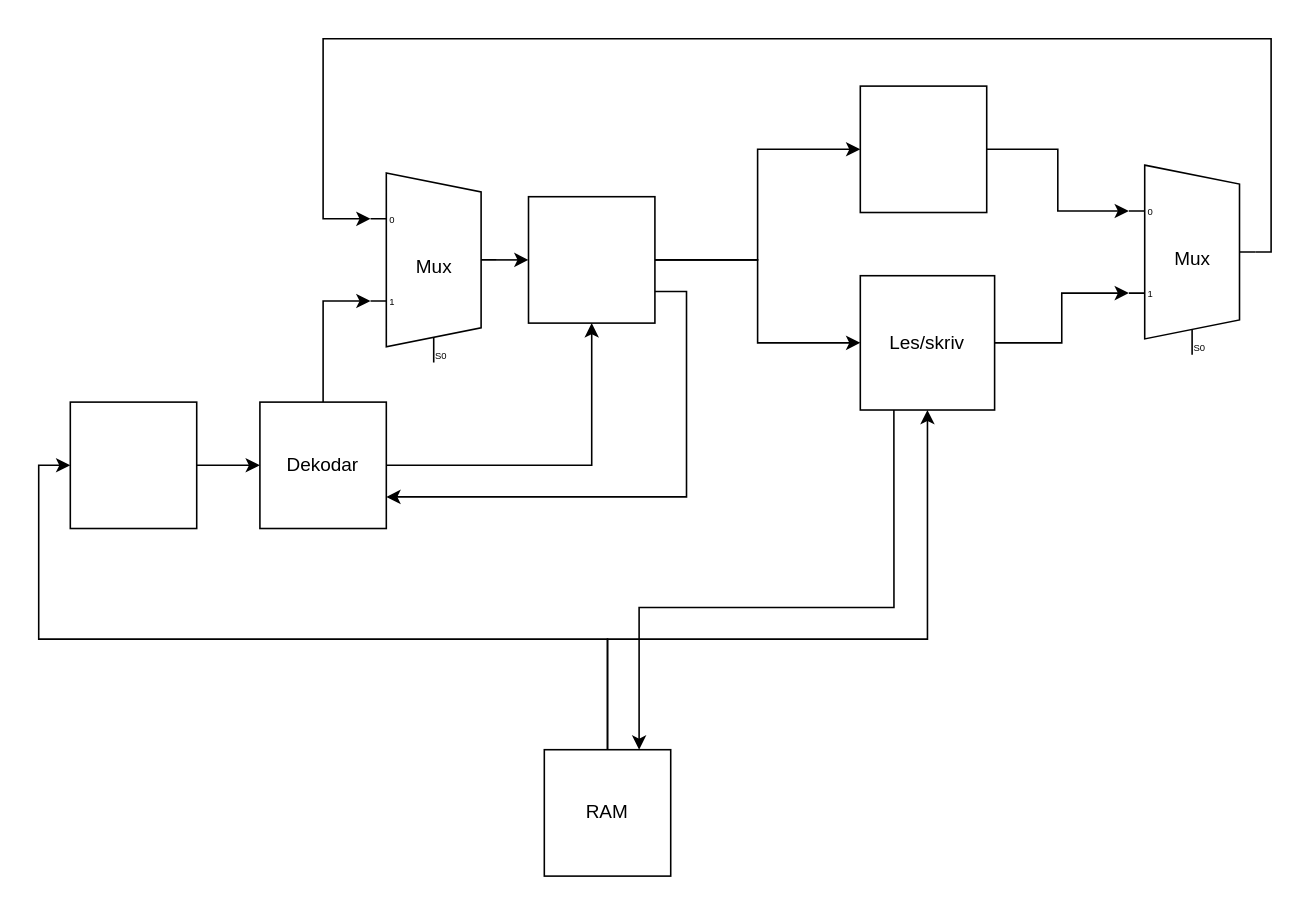
Image size: 1311x904. Some labels were removed from this diagram. The shapes that lost their labels are listed below. From the top down, each one's centre as x and y in pixels, then its label:
At (x=923, y=149): "ALU".
At (x=591, y=259): "Registerfil".
At (x=133, y=465): "Hentar".
